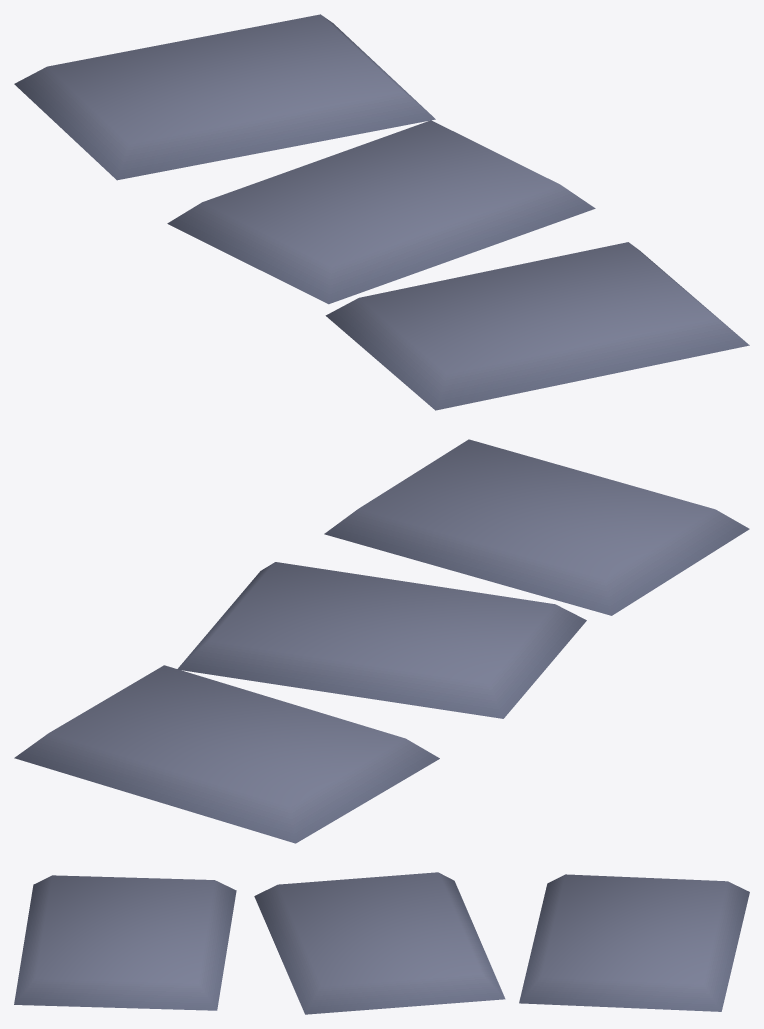
The model's file is path_stones.glb.
3 views of the same model, one above another, from view 1: azimuth 30°, elevation 25°; view 2: azimuth 150°, elevation 25°; view 3: azimuth 270°, elevation 25° (orthographic). The views are drawn at different scales.
Visible parts, largest first — view 1: path-stones-messy; view 2: path-stones-messy; view 3: path-stones-messy.
Boxes of the visible parts, x1,y1,x2,y2 form: path-stones-messy: [14, 14, 749, 410]; path-stones-messy: [14, 439, 749, 843]; path-stones-messy: [14, 872, 749, 1014].
Size of the model in its own units: 0.1556 by 0.01 by 0.3614.
Materials: 1 (1 with a texture image).
